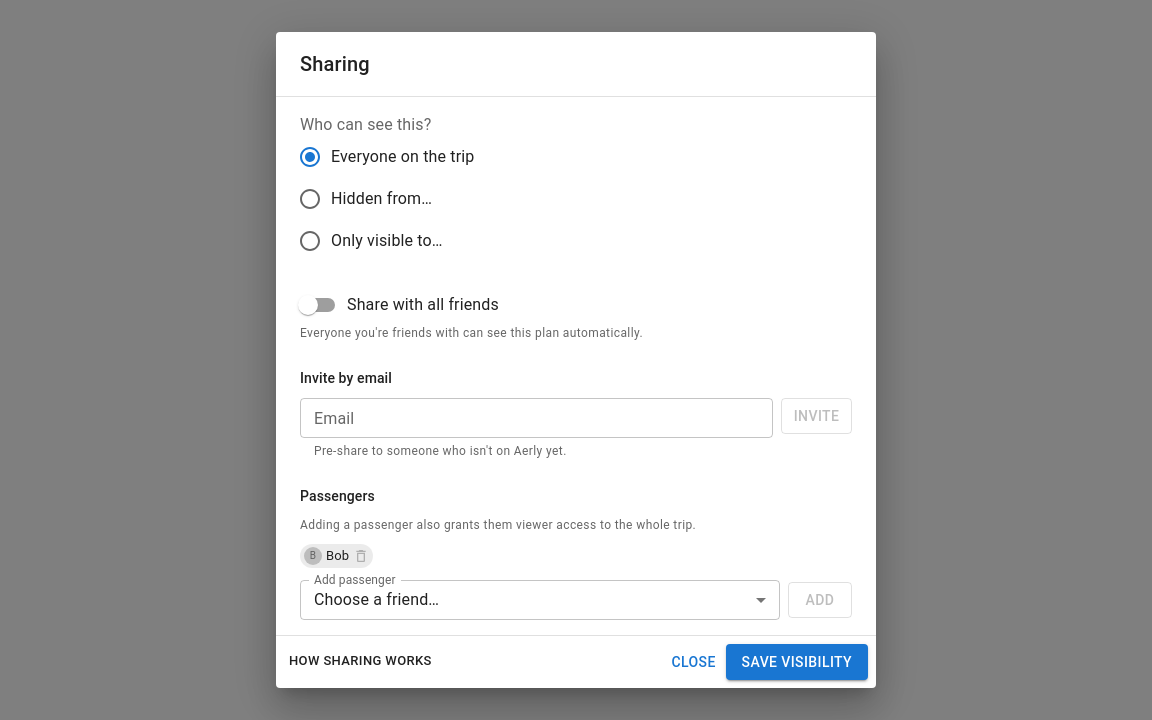
Test: PlanPrivacyDialog › excludes current passengers from the add picker
The width and height of the screenshot is (1152, 720).
Click the dropdown named "Add passenger" at (377,600), box [314,590,439,609]
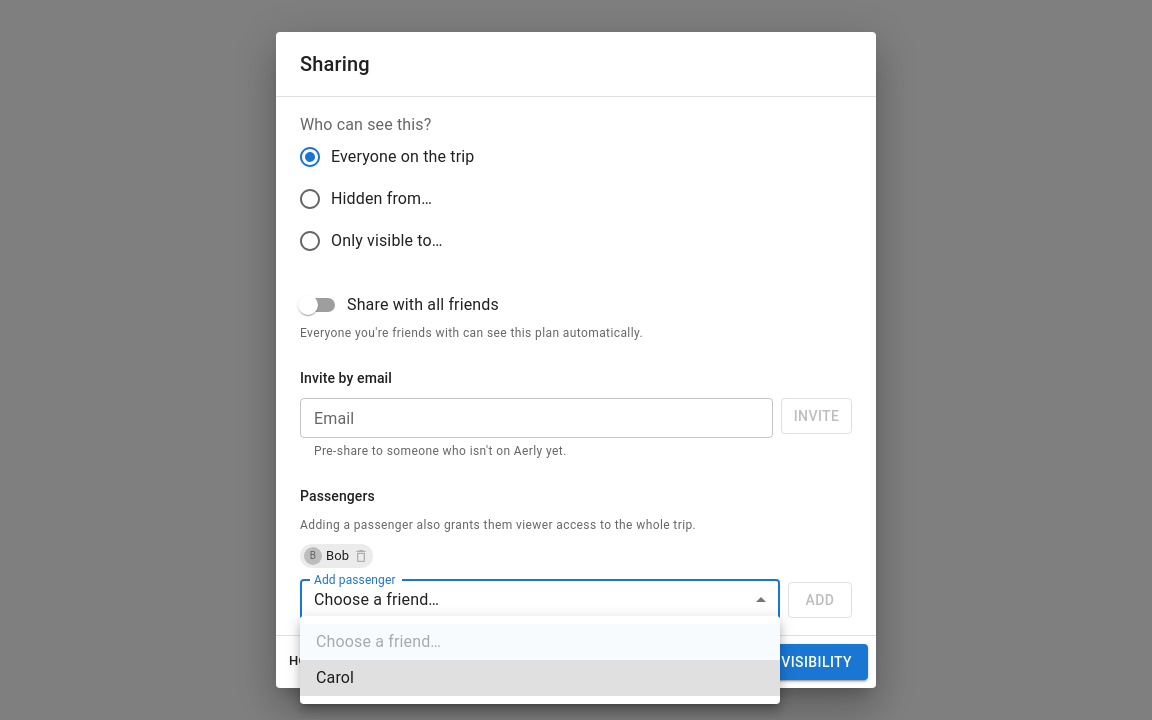
Expected: the option "Carol" is shown, [300,660,780,696]
